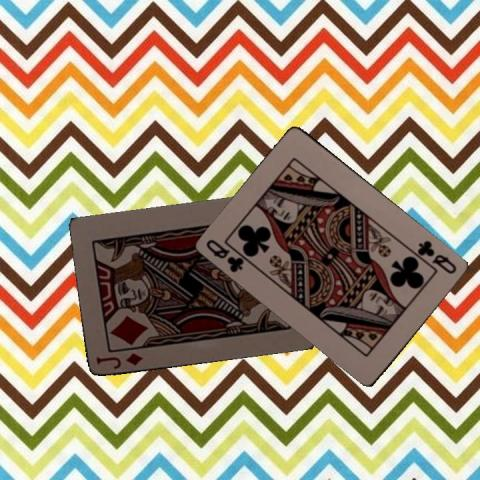Jd: (93, 350, 144, 371)
Qc: (415, 237, 458, 276), (203, 236, 246, 274)
